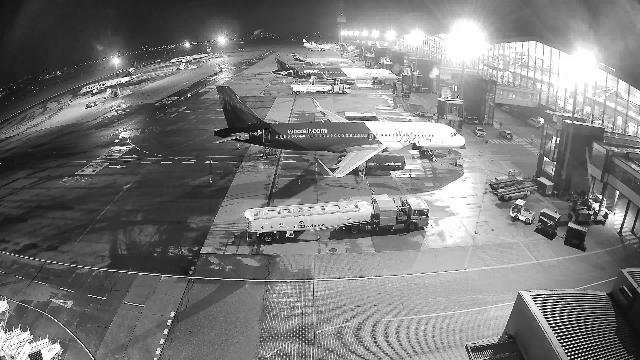Aircraft: (212, 86, 466, 178), (271, 52, 398, 86), (80, 61, 143, 94), (170, 46, 214, 63), (288, 53, 353, 64), (303, 39, 340, 49)
Airport_Tractor: (509, 199, 535, 224), (586, 194, 606, 211), (280, 78, 286, 84)
Baggage_Trolley: (538, 208, 561, 235), (565, 221, 589, 244), (536, 177, 554, 195), (572, 199, 588, 213), (575, 211, 592, 223), (593, 210, 609, 220)
Conveyor_Belt: (494, 176, 537, 201), (489, 169, 529, 190)
Fuel_Tuck: (245, 194, 430, 244), (291, 84, 351, 94)
Pushback_Tug: (414, 107, 437, 117)
